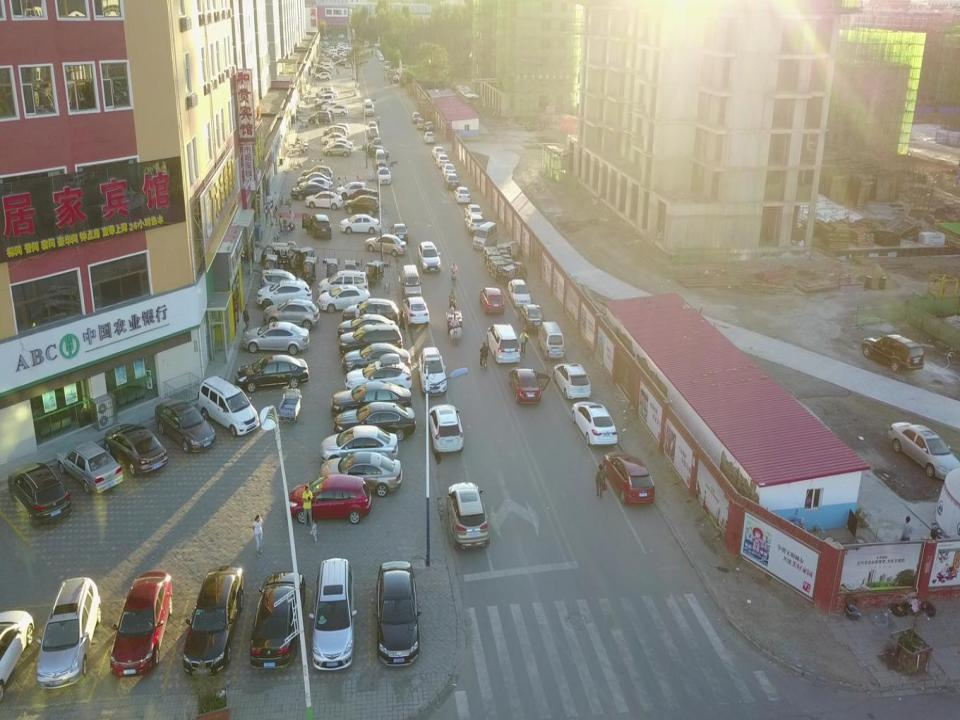car: (31, 579, 100, 689), (180, 568, 244, 680), (109, 568, 172, 676), (248, 572, 305, 675), (309, 558, 357, 669), (374, 561, 422, 668), (191, 374, 262, 438), (286, 474, 373, 522), (7, 462, 70, 525), (319, 452, 402, 498), (892, 424, 958, 479), (330, 401, 416, 443), (56, 440, 125, 492), (150, 398, 214, 452), (102, 423, 168, 475), (445, 481, 489, 551), (601, 451, 656, 507), (329, 379, 411, 415), (0, 606, 34, 692), (863, 330, 924, 376), (318, 424, 398, 459), (233, 354, 308, 391), (239, 319, 309, 356), (344, 358, 413, 391), (570, 400, 618, 444), (336, 323, 404, 353), (426, 402, 462, 454), (340, 344, 412, 369), (255, 280, 313, 308), (261, 298, 320, 324), (337, 312, 396, 338), (341, 297, 400, 322), (553, 362, 593, 398), (417, 346, 446, 395), (508, 365, 541, 406), (318, 285, 370, 311), (485, 324, 520, 362), (318, 268, 368, 294), (363, 232, 407, 257), (257, 264, 296, 291), (470, 222, 501, 250), (402, 296, 430, 326), (339, 214, 381, 234), (417, 240, 442, 273), (479, 286, 505, 315), (344, 195, 381, 215), (305, 189, 342, 208), (508, 278, 532, 306), (519, 302, 543, 329), (399, 264, 420, 294), (308, 213, 332, 239), (336, 180, 370, 198), (346, 187, 378, 204), (290, 184, 330, 197), (295, 174, 332, 188), (321, 141, 352, 157), (301, 165, 333, 180), (464, 212, 484, 232), (390, 223, 410, 241), (320, 133, 346, 146), (323, 124, 347, 138), (452, 186, 470, 204), (308, 112, 332, 124), (376, 165, 390, 185), (466, 204, 481, 221), (443, 172, 458, 189), (374, 148, 388, 166), (434, 153, 450, 168), (441, 163, 455, 178), (330, 105, 349, 116), (314, 94, 334, 104), (362, 99, 374, 115), (315, 85, 334, 95), (422, 129, 434, 144), (432, 146, 445, 159), (370, 136, 382, 148), (367, 126, 379, 138), (314, 99, 330, 108), (321, 102, 338, 110), (366, 120, 377, 132), (424, 121, 434, 134), (314, 65, 330, 73), (415, 118, 425, 130), (315, 72, 330, 80), (321, 58, 333, 67), (320, 63, 332, 71), (383, 60, 391, 72), (412, 112, 420, 123), (392, 73, 399, 84), (389, 69, 396, 77)
van: (537, 320, 565, 360)
